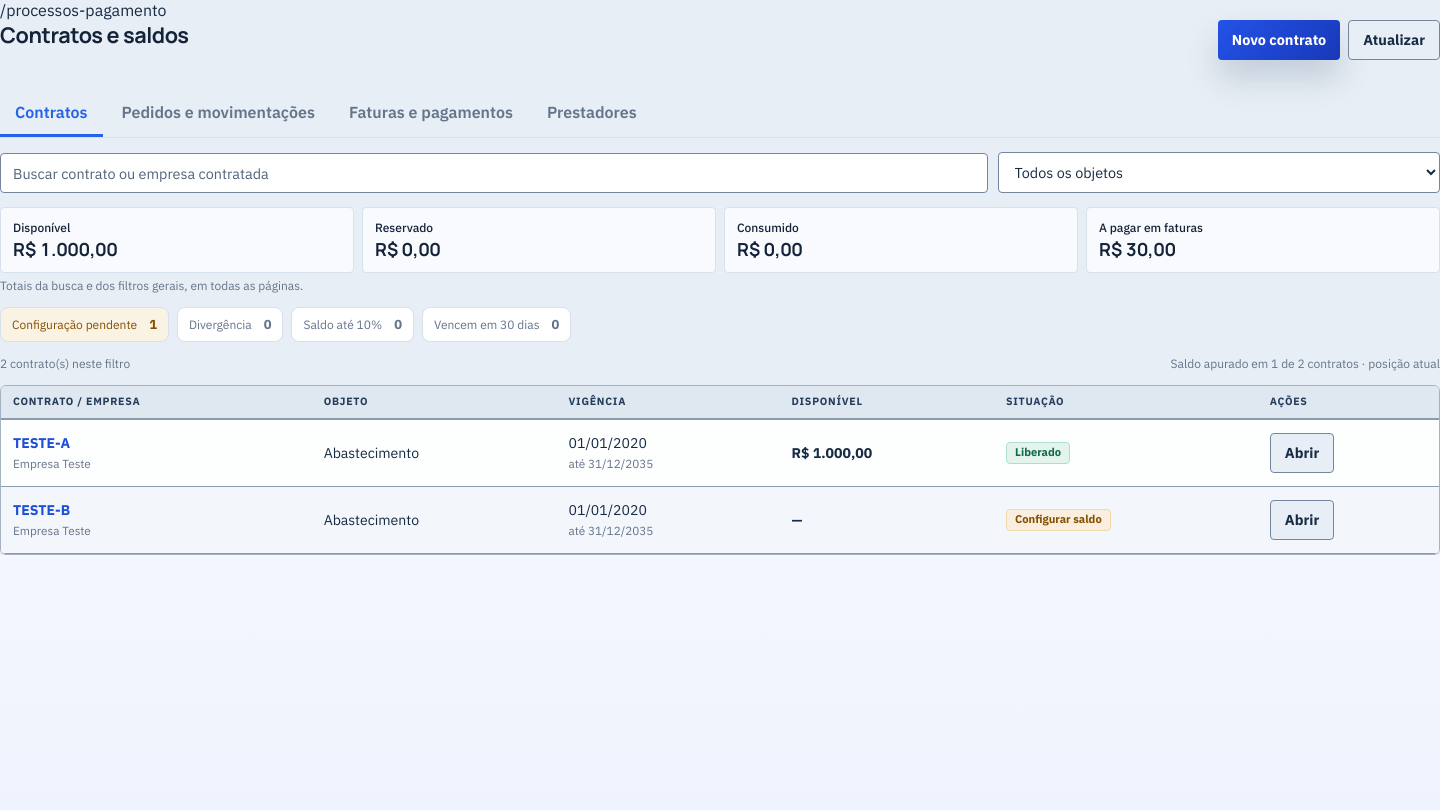
mantém o detalhe entre abas, carrega configuração sob demanda e fecha devolvendo foco à lista
What coordinates should you click on to do the following:
click the button with aria-label "Abrir contrato TESTE-A"
I would click on:
 (42, 443)
Its box is [13,434,70,452].
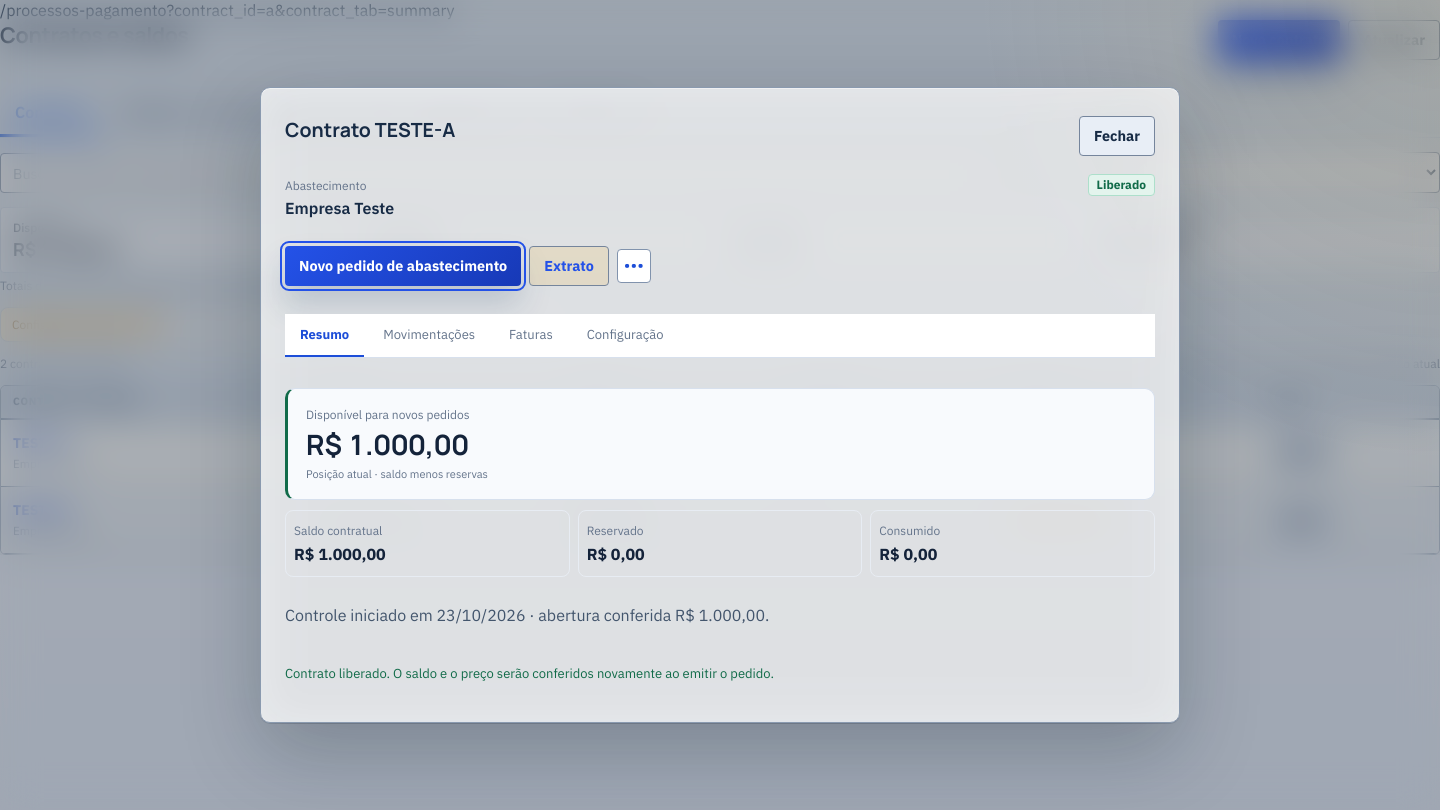
What coordinates should you click on to do the following:
click the button "Movimentações"
I would click on:
 (429, 335)
Its box is [368,314,490,357].
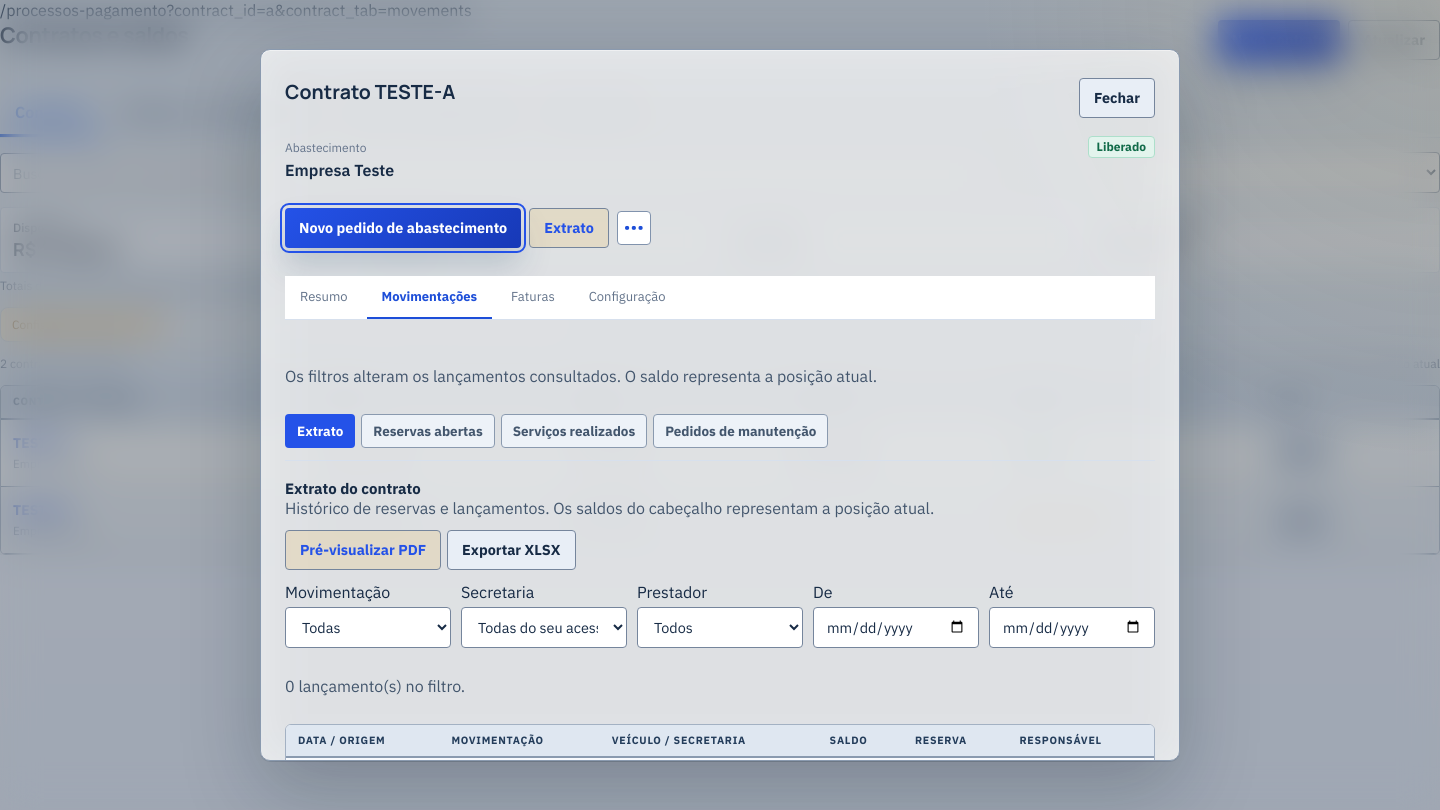
Result: the element "Extrato do contrato" is shown at [285,460,1155,761]
What coordinates should you click on to do the following:
click the button "Configuração"
I would click on:
 (627, 297)
Its box is [574,276,680,319].
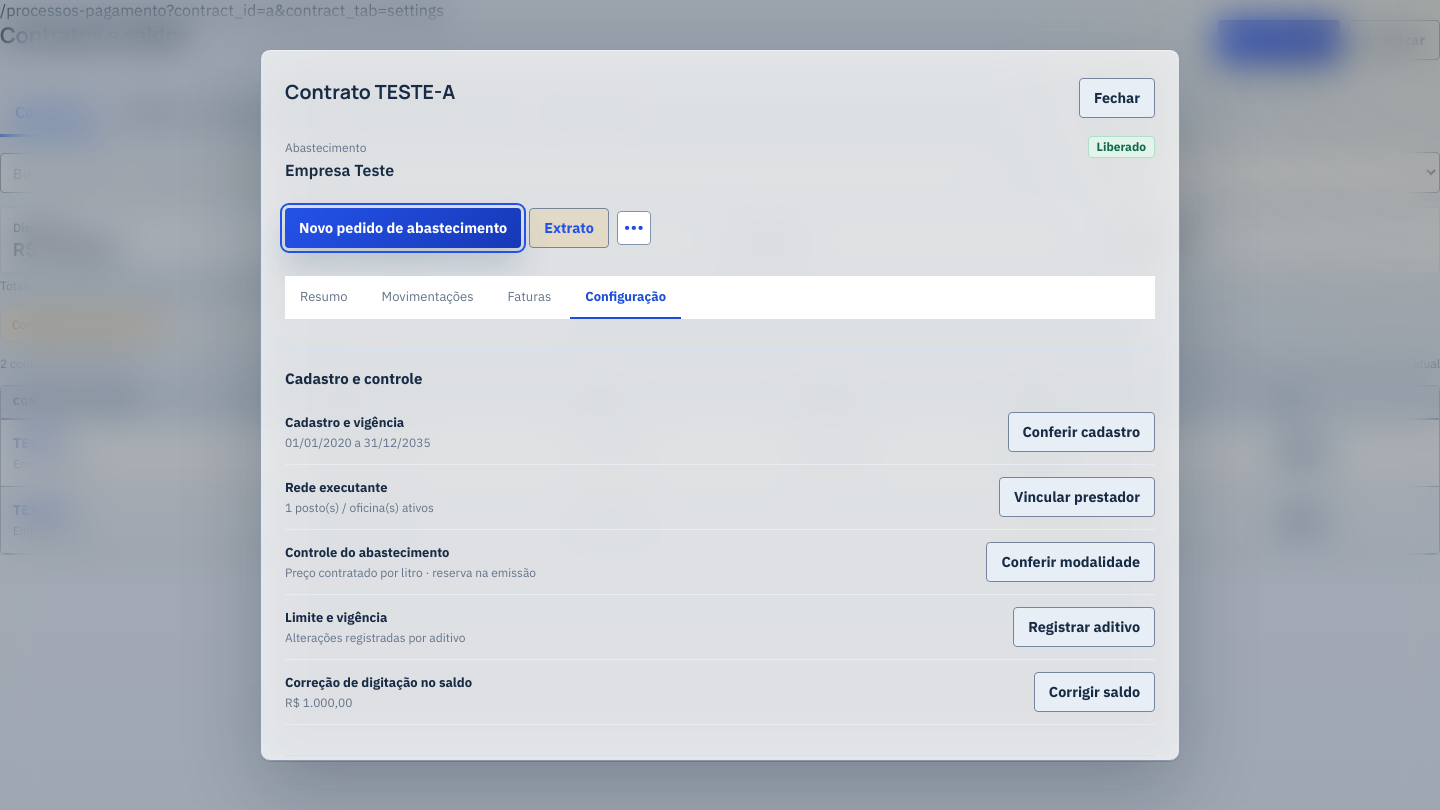
What coordinates should you click on to do the following:
click the button "Fechar"
I would click on:
 (1117, 98)
Its box is [1079,78,1155,118].
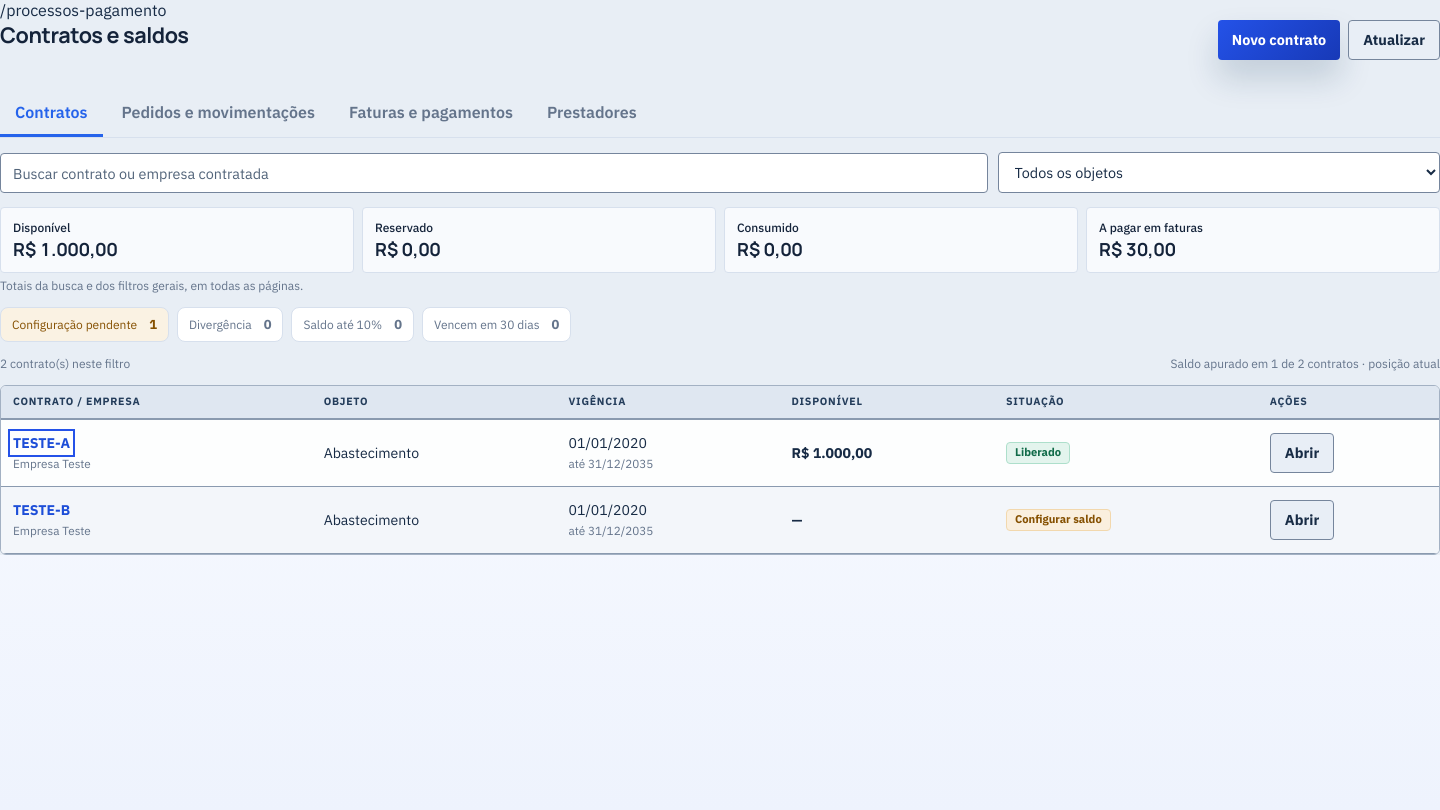
Result: the dialog is gone
